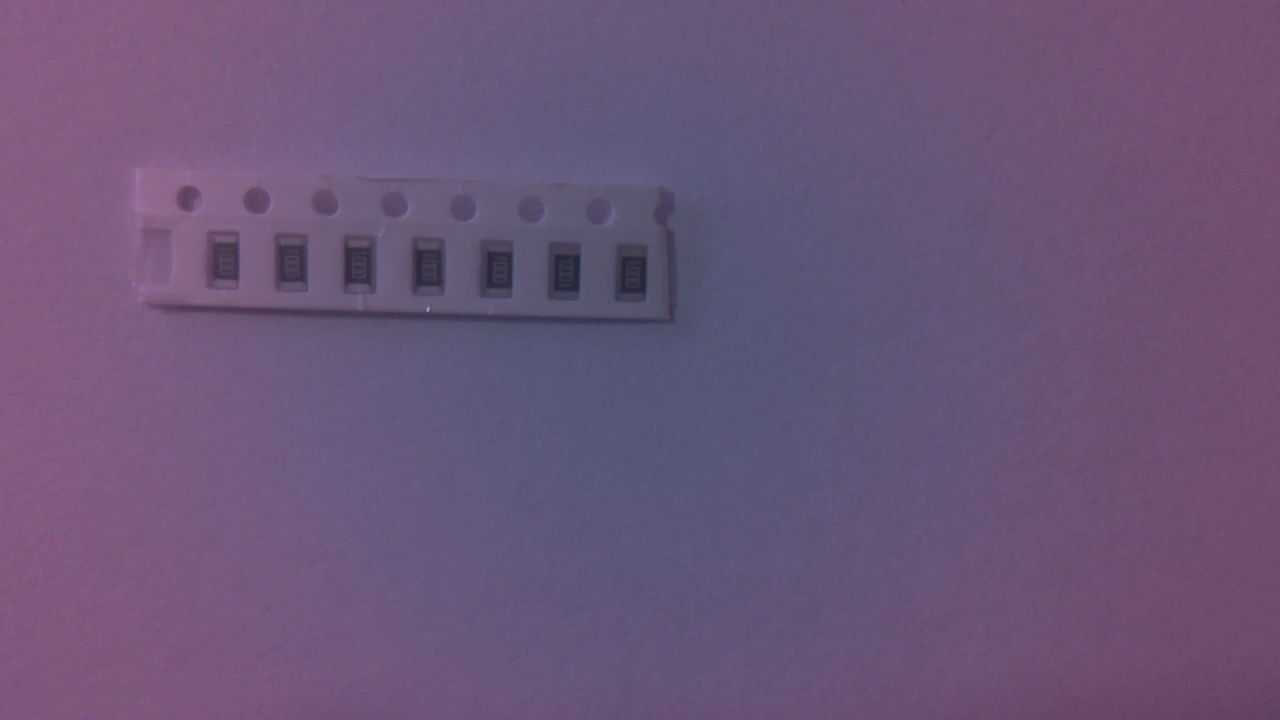Resistor: (483, 241, 521, 303), (621, 246, 655, 308), (278, 238, 314, 294), (416, 239, 449, 300), (347, 238, 379, 299), (213, 234, 247, 291), (555, 244, 584, 307)
